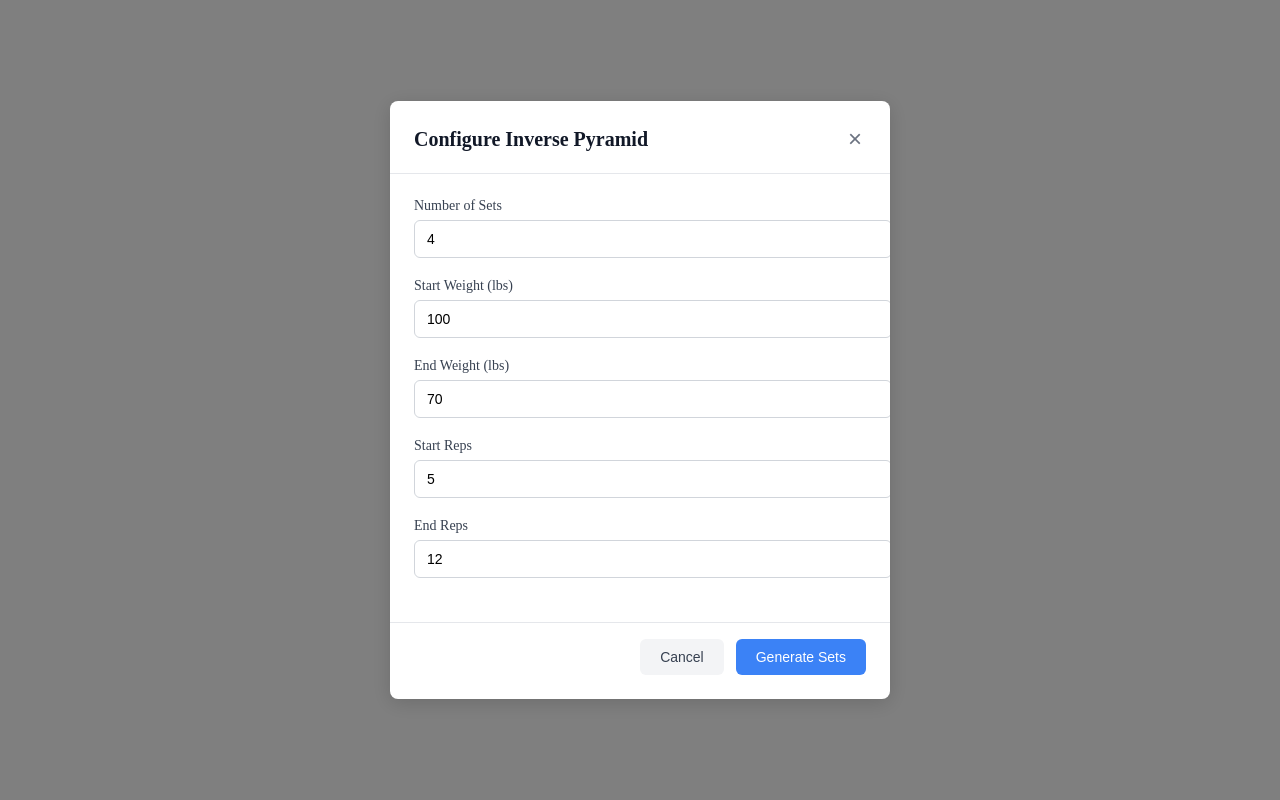
InversePyramidModal › shows validation errors for invalid input
The width and height of the screenshot is (1280, 800).
Set start weight less than end weight (invalid)
Replace the text in the number field labelled "Start Weight (lbs)" with "50" at (653, 319), box left=414, top=300, right=892, bottom=338
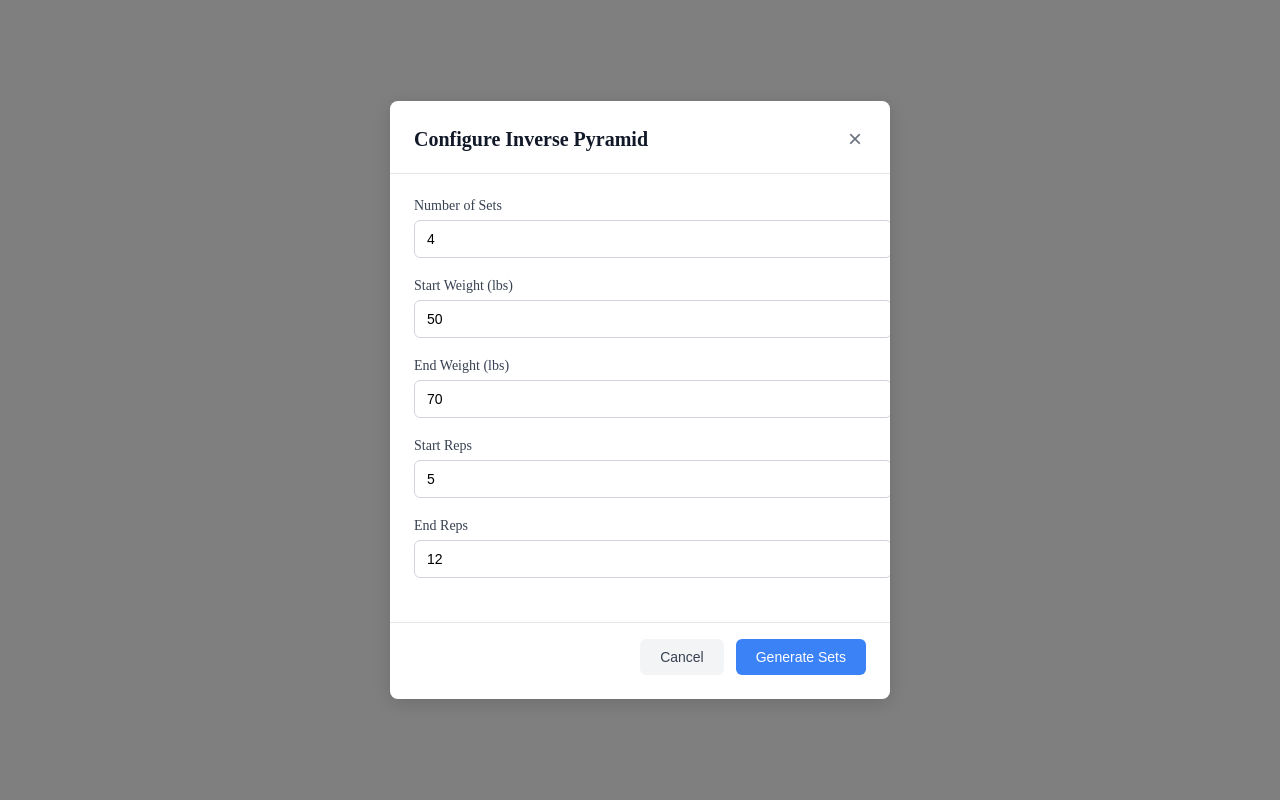
Replace the text in the number field labelled "End Weight (lbs)" with "100" at (653, 399), box left=414, top=380, right=892, bottom=418
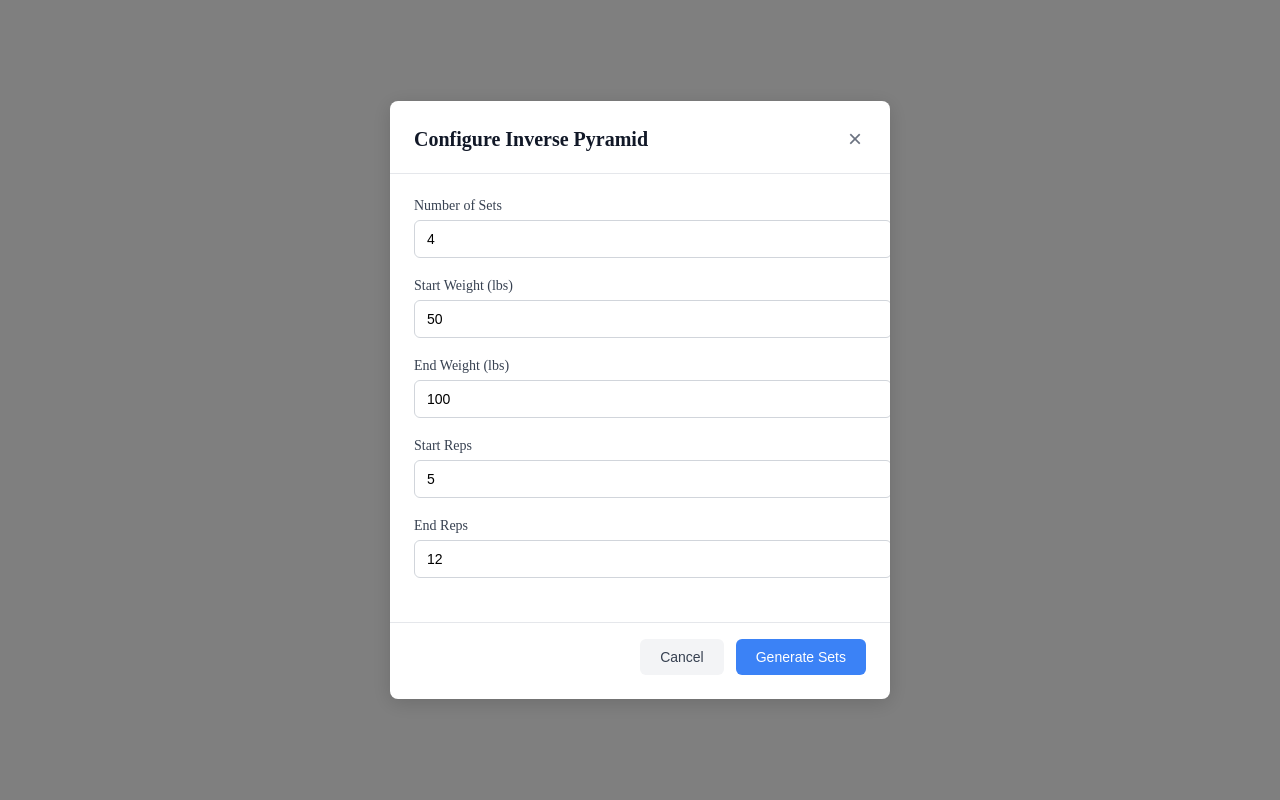
Click the button "Generate Sets" at (801, 657), box left=736, top=639, right=866, bottom=675
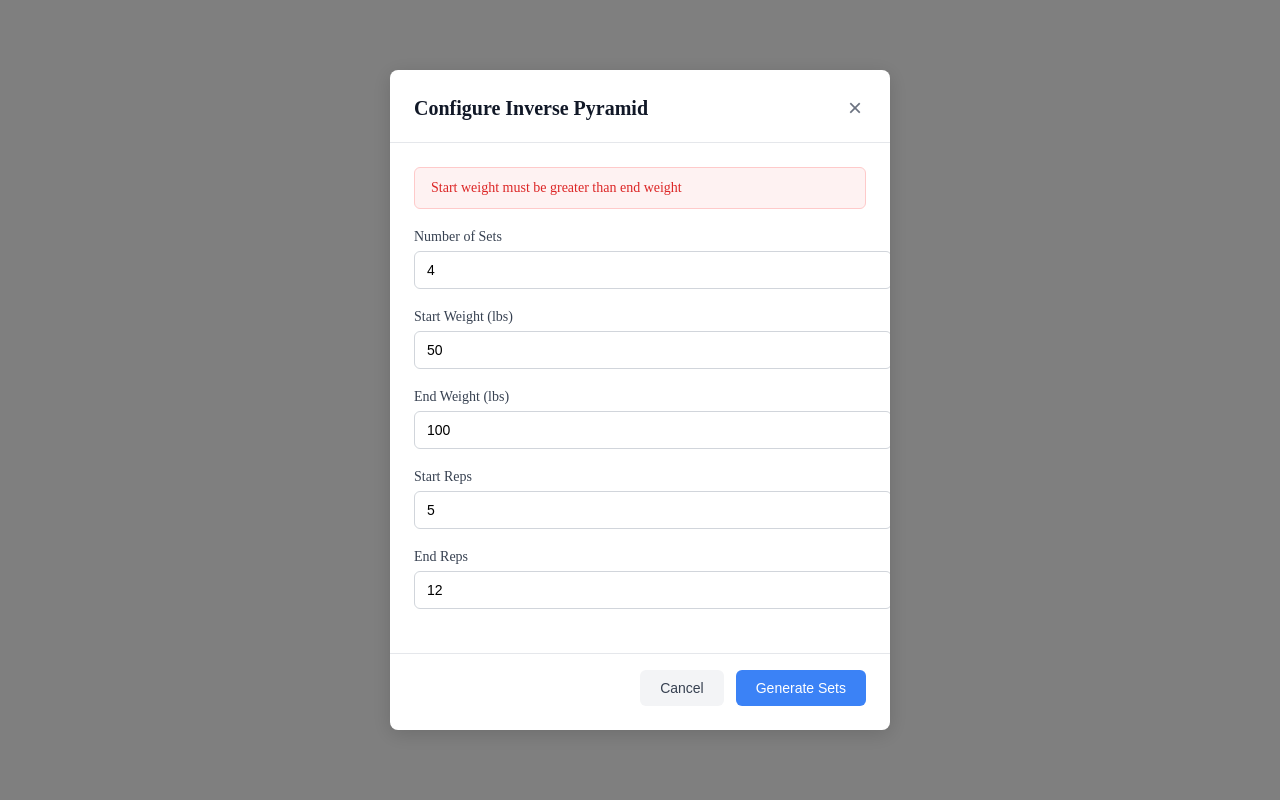
Expected: the text "Start weight must be greater than end weight" is shown, left=431, top=180, right=682, bottom=195
